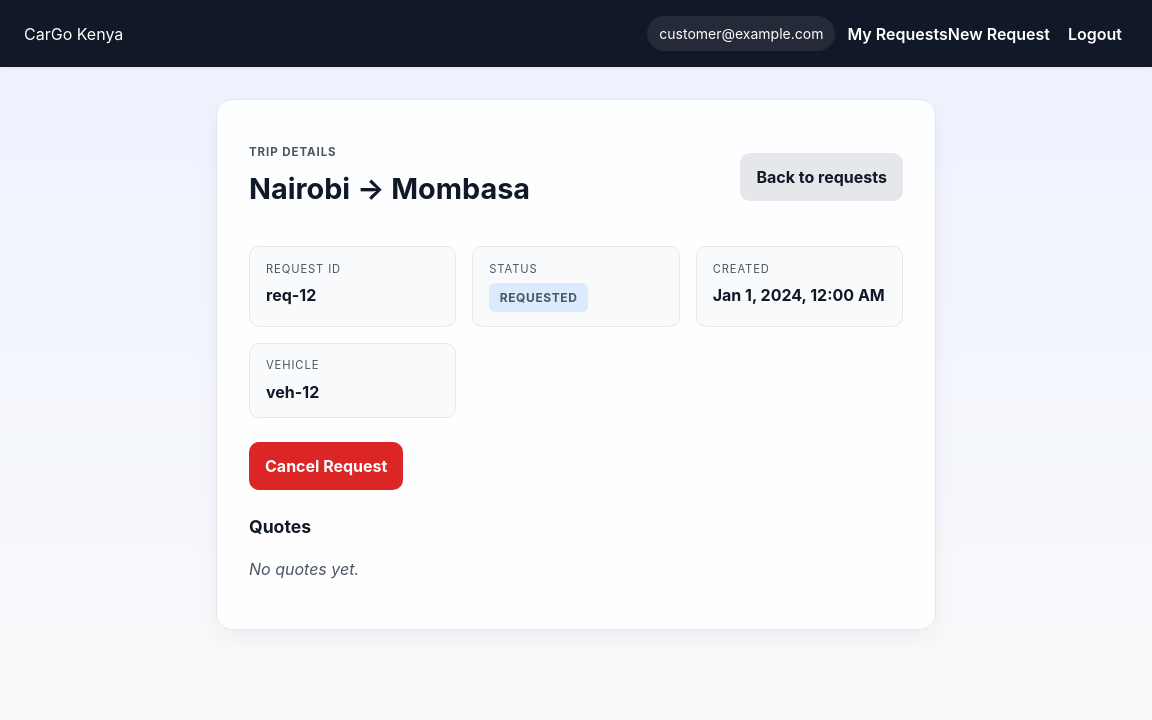
Test case: customer foundation workflow › successfully cancels a request
Click the button "Cancel Request": {"x": 326, "y": 466} [249, 442, 403, 490]
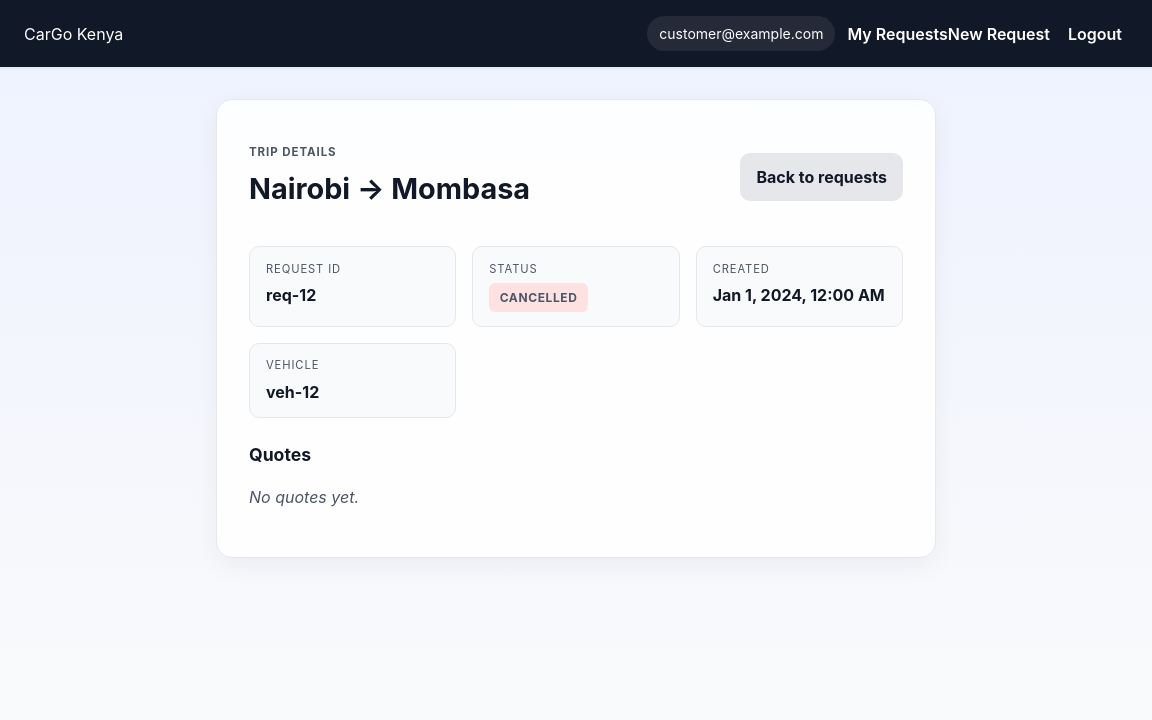
Expected: the text "CANCELLED" is shown, [489, 283, 588, 312]
